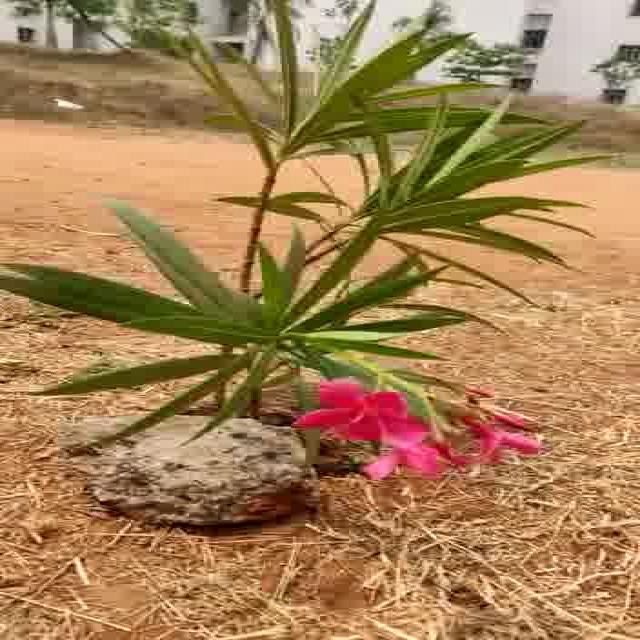Oleander: (141, 11, 572, 452)
